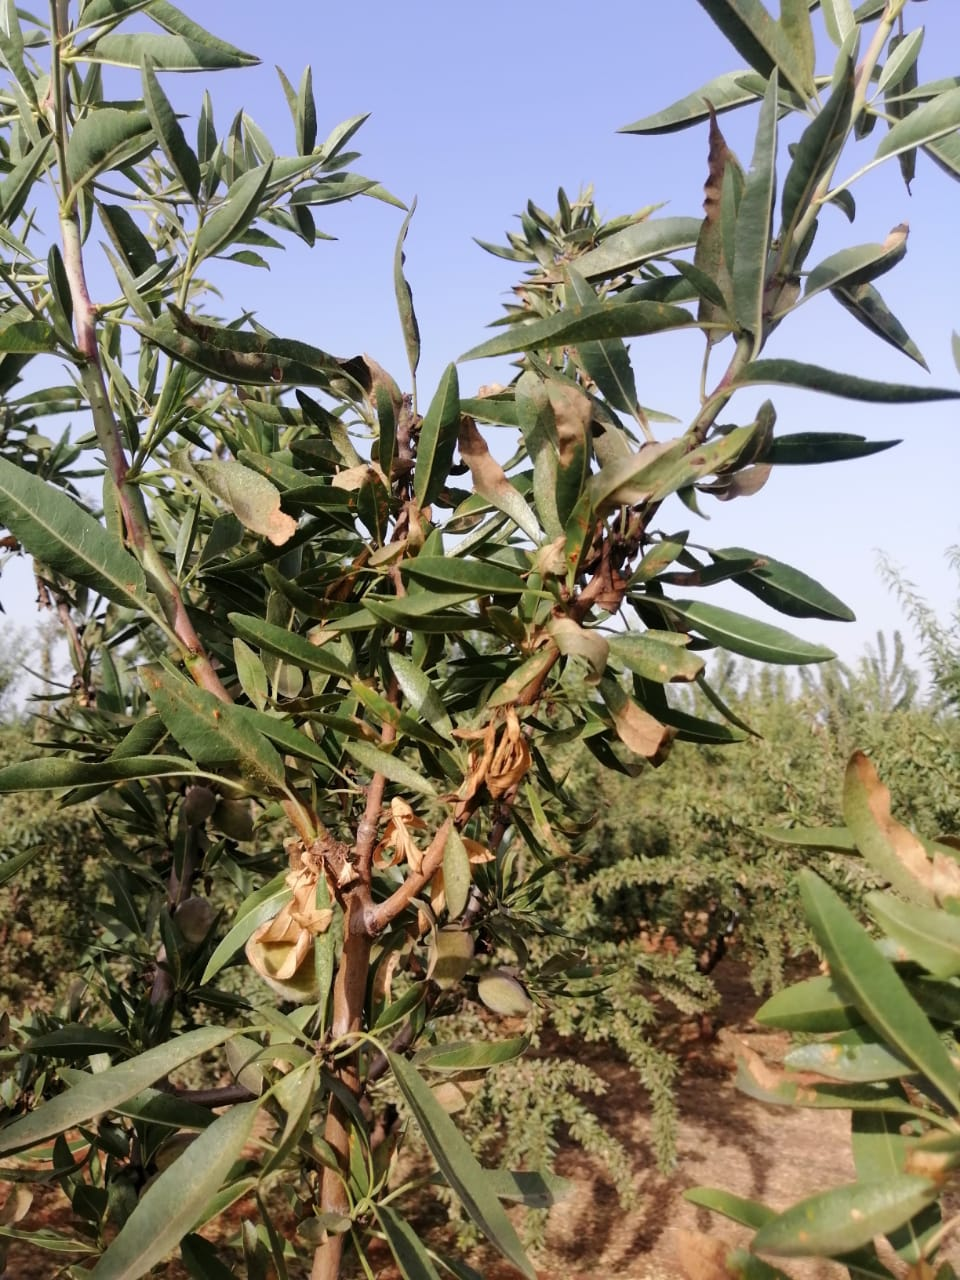scolytes: (405, 530, 637, 923), (368, 475, 444, 745), (257, 819, 337, 980)
